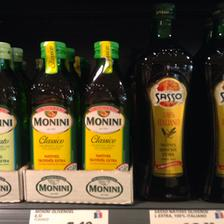Oel: (138, 3, 194, 199), (78, 36, 130, 168), (26, 40, 78, 168)
